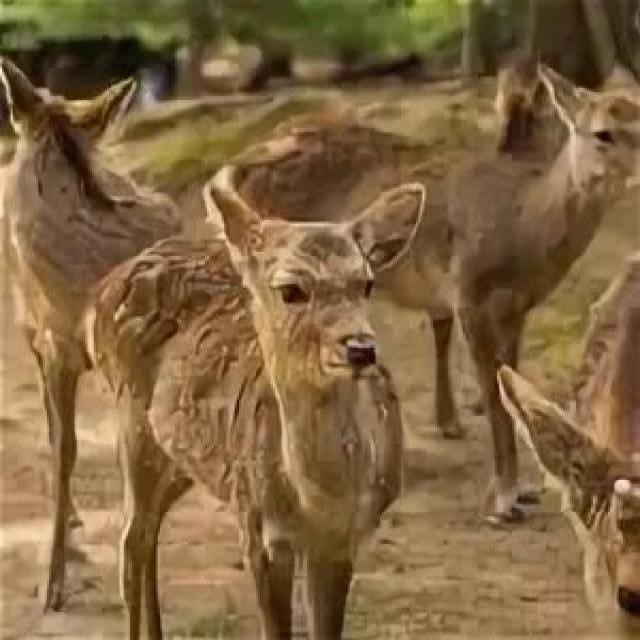deer: (208, 192, 434, 581)
